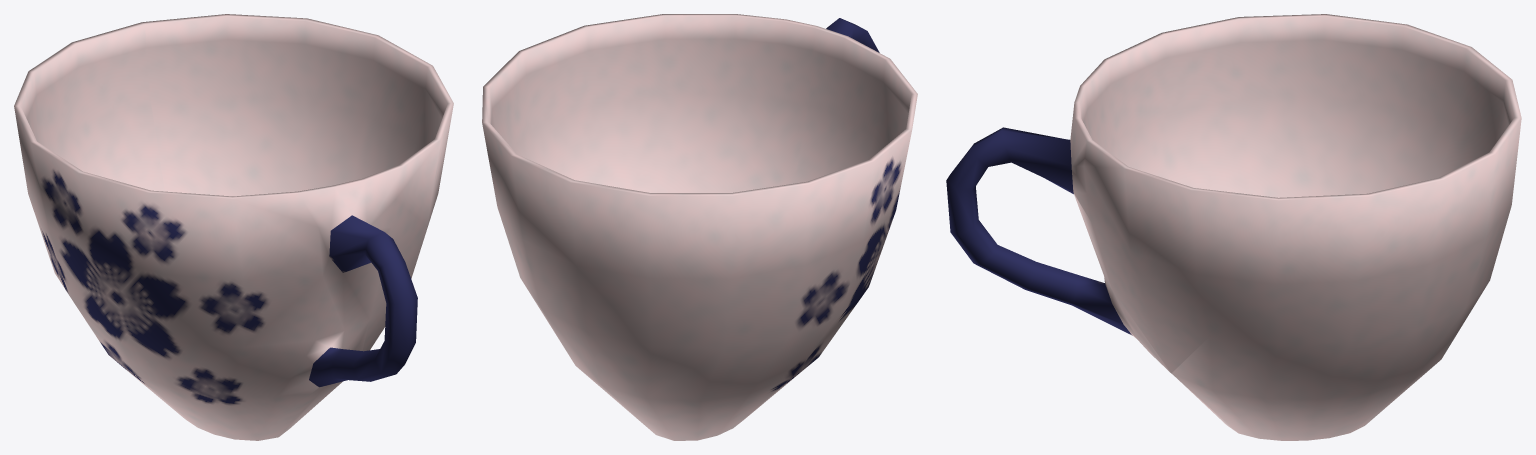
File: cap.fbx
3 renders of one model, left to right at view 1: azimuth 30°, elevation 25°; view 2: azimuth 150°, elevation 25°; view 3: azimuth 270°, elevation 25°, orthographic.
Visible parts, largest first — view 1: Cube_20_low; view 2: Cube_20_low; view 3: Cube_20_low.
Part boxes in pixels (left/top/right/bottom): Cube_20_low: left=14, top=14, right=453, bottom=440; Cube_20_low: left=482, top=14, right=917, bottom=440; Cube_20_low: left=946, top=14, right=1521, bottom=440.
Size of the model in its own units: 91.72 by 71.6 by 119.
